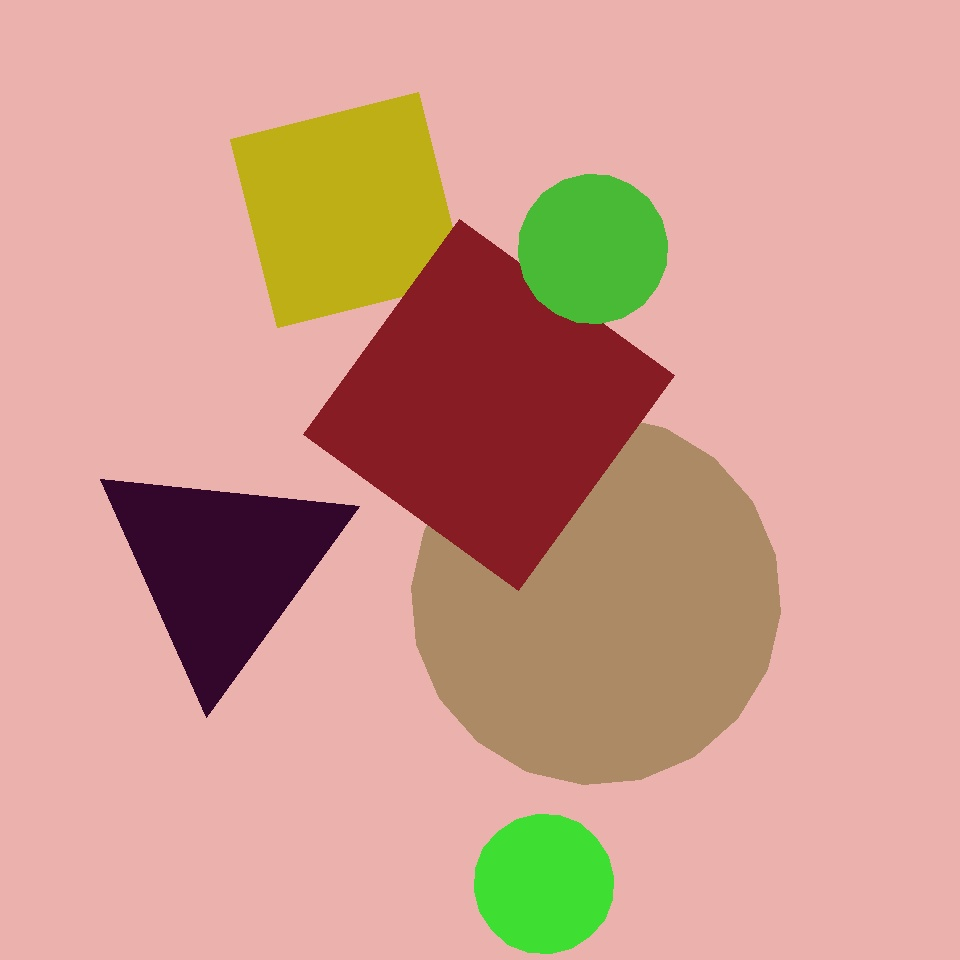circle: (93, 449, 352, 687)
square: (304, 220, 674, 590), (435, 345, 802, 711), (55, 247, 410, 602), (329, 212, 608, 491), (230, 92, 466, 328), (406, 381, 500, 475)
triangle: (412, 416, 780, 784), (483, 239, 661, 418), (518, 175, 668, 324), (474, 814, 614, 954)
